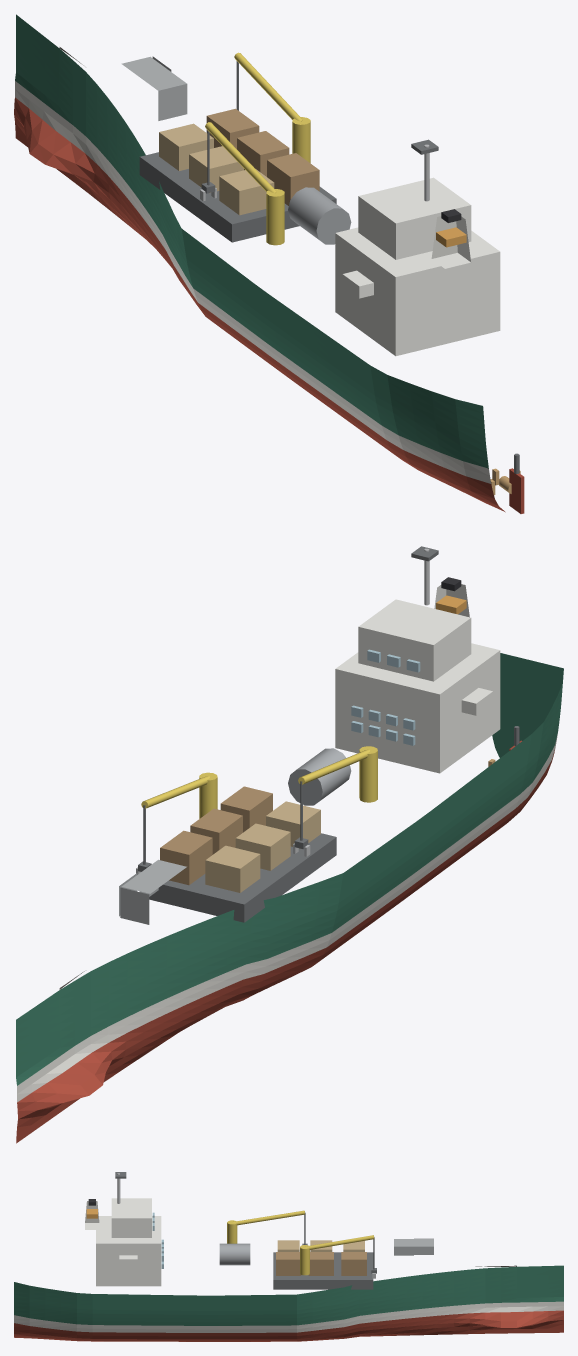
File: merchant_lod1.glb
3 views of the same model, one above another, from view 1: azimuth 30°, elevation 25°; view 2: azimuth 150°, elevation 25°; view 3: azimuth 270°, elevation 25° (orthographic). The views are drawn at different scales.
Visible parts, largest first — view 1: ship; view 2: ship; view 3: ship.
Boxes of the visible parts, x1,y1,x2,y2 form: ship: (14,14,524,513); ship: (16,546,563,1143); ship: (14,1172,563,1341).
Size of the model in its own units: 0.5564 by 0.99 by 3.02.
